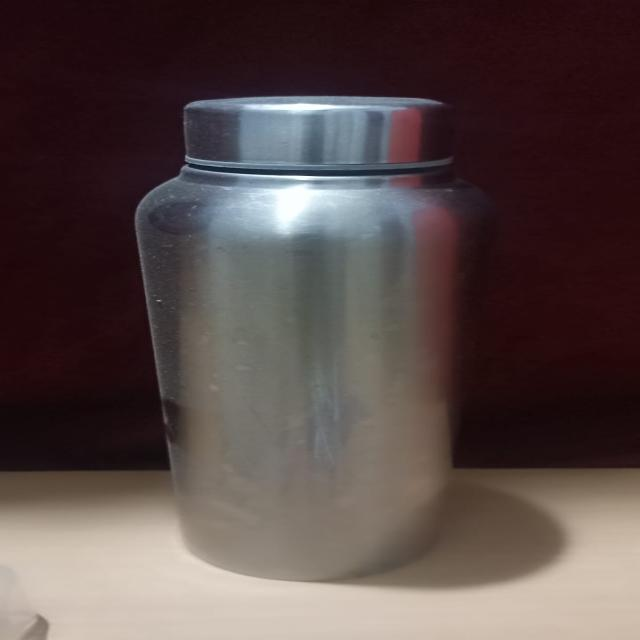bottle: (123, 86, 484, 584)
